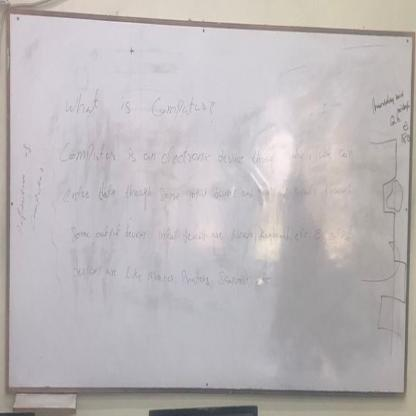Handwritten text: (58, 137, 357, 168), (68, 252, 255, 299), (65, 176, 317, 208), (63, 217, 313, 248), (60, 81, 207, 130)
